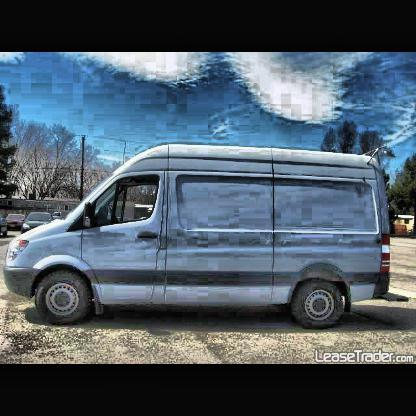Dodge Sprinter Cargo Van 2009: (6, 144, 394, 333)
